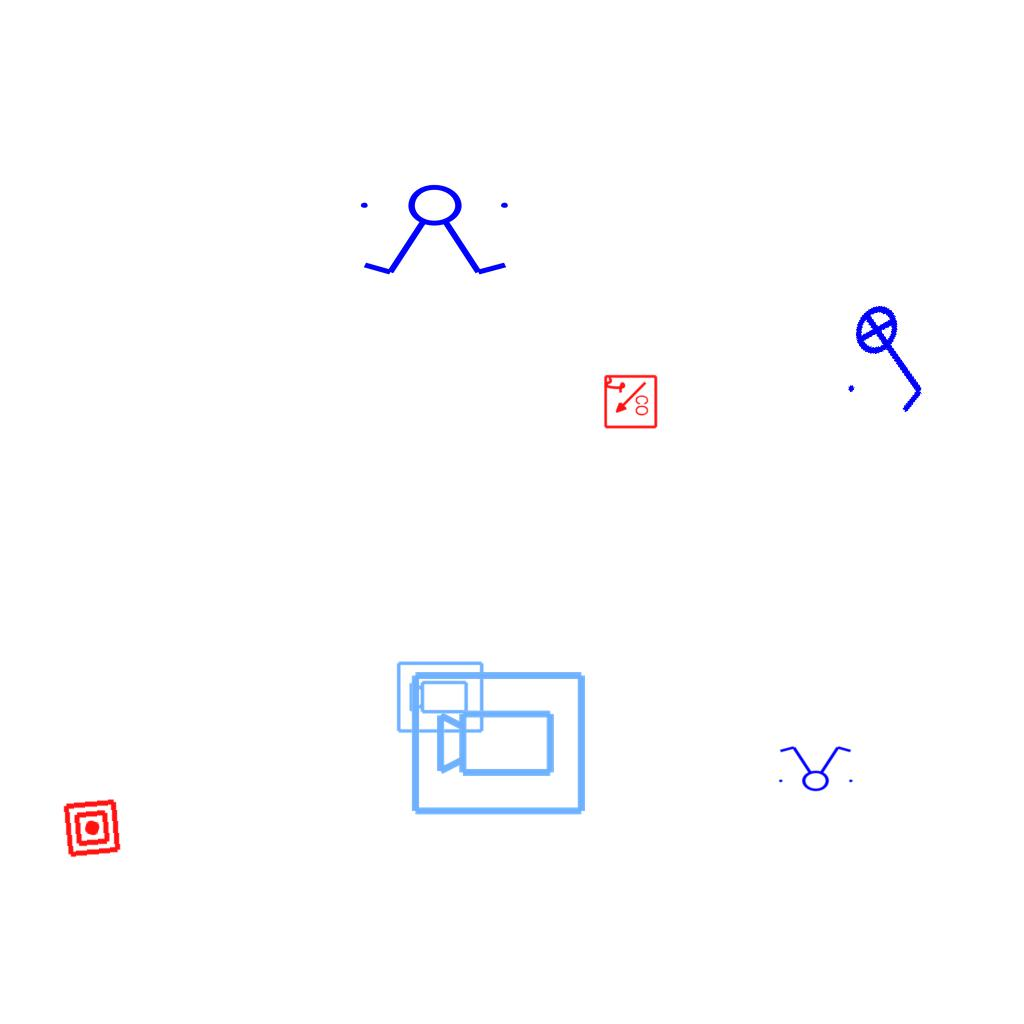Ausschalter_beleuchtet: (827, 285, 961, 427)
KFO_Kamera_mit_Festobjektiv: (408, 665, 590, 819), (395, 658, 486, 735)
NAM-Nichtautomatischer_Melder: (61, 797, 123, 859)
ROA_Rauchmelder_optisch_mit_Signalgeber_(Sockelsirene): (602, 374, 658, 430)
Serienschalter: (352, 183, 520, 279), (773, 744, 857, 792)
